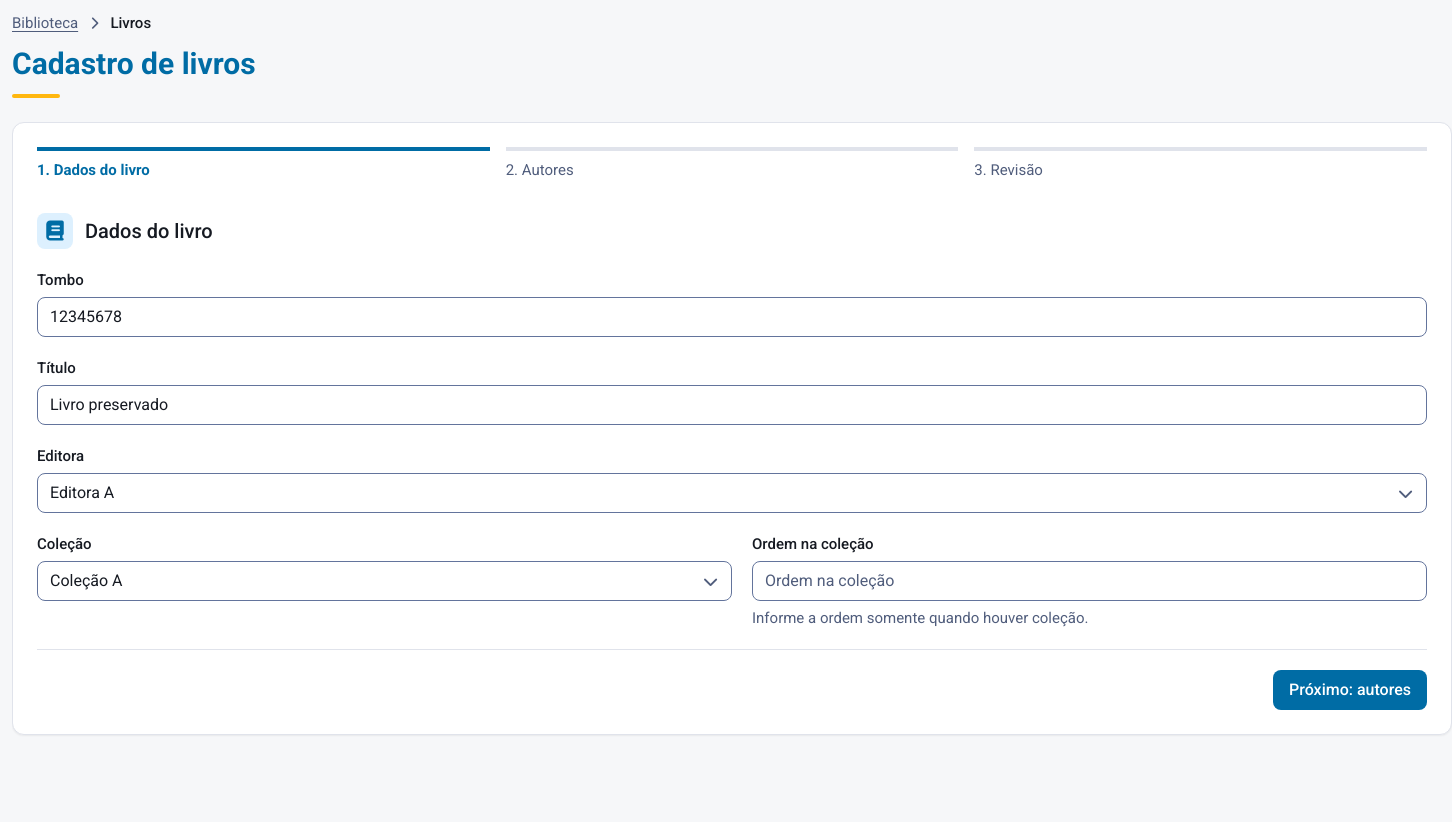
it: new book stepper › restores existing selections in the review after server validation
Click the button "Próximo: autores" at coordinates (1350, 690), box [1273,670,1427,710]
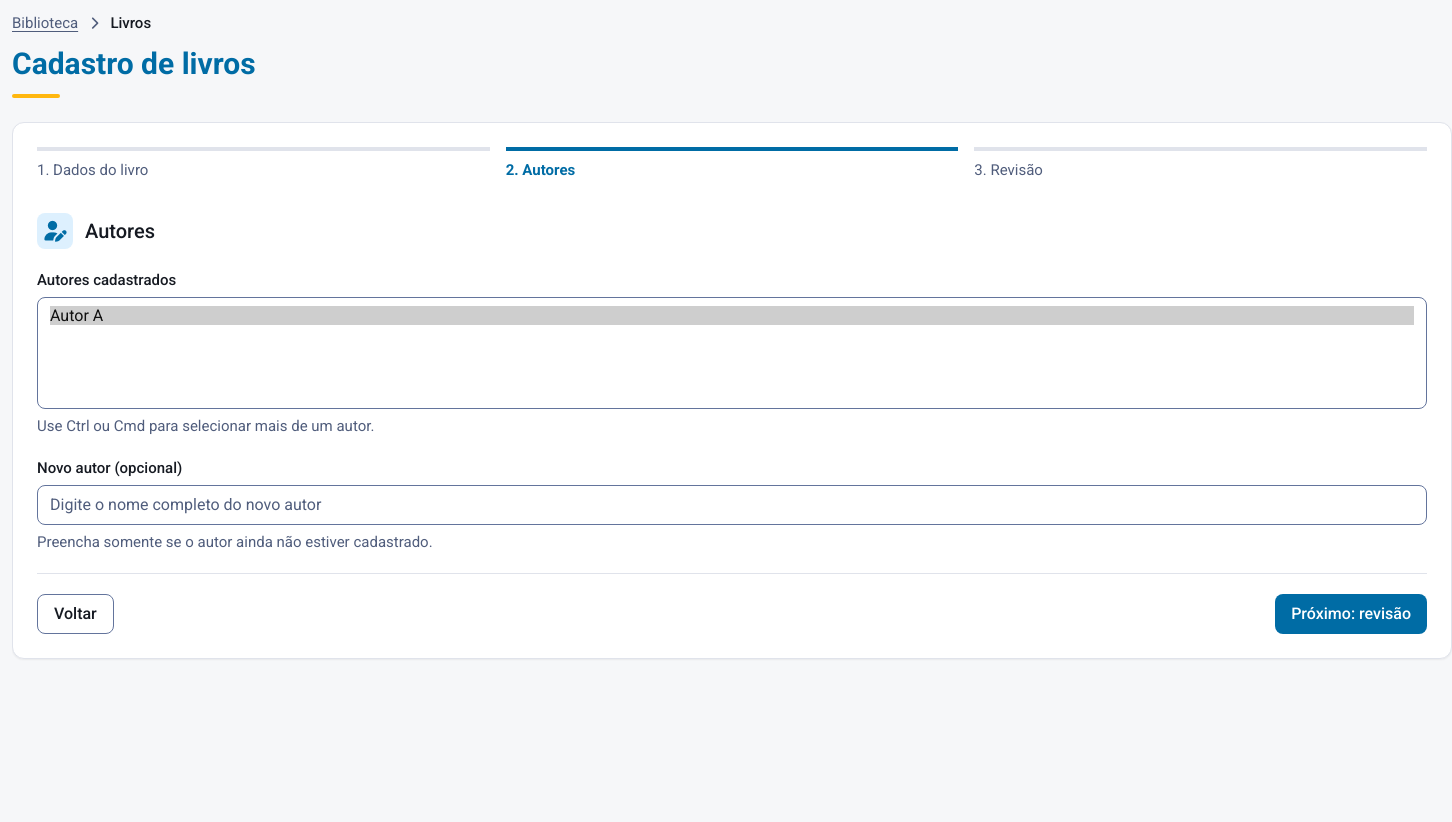
Click the button "Próximo: revisão" at coordinates (1351, 614), box [1275,594,1427,634]
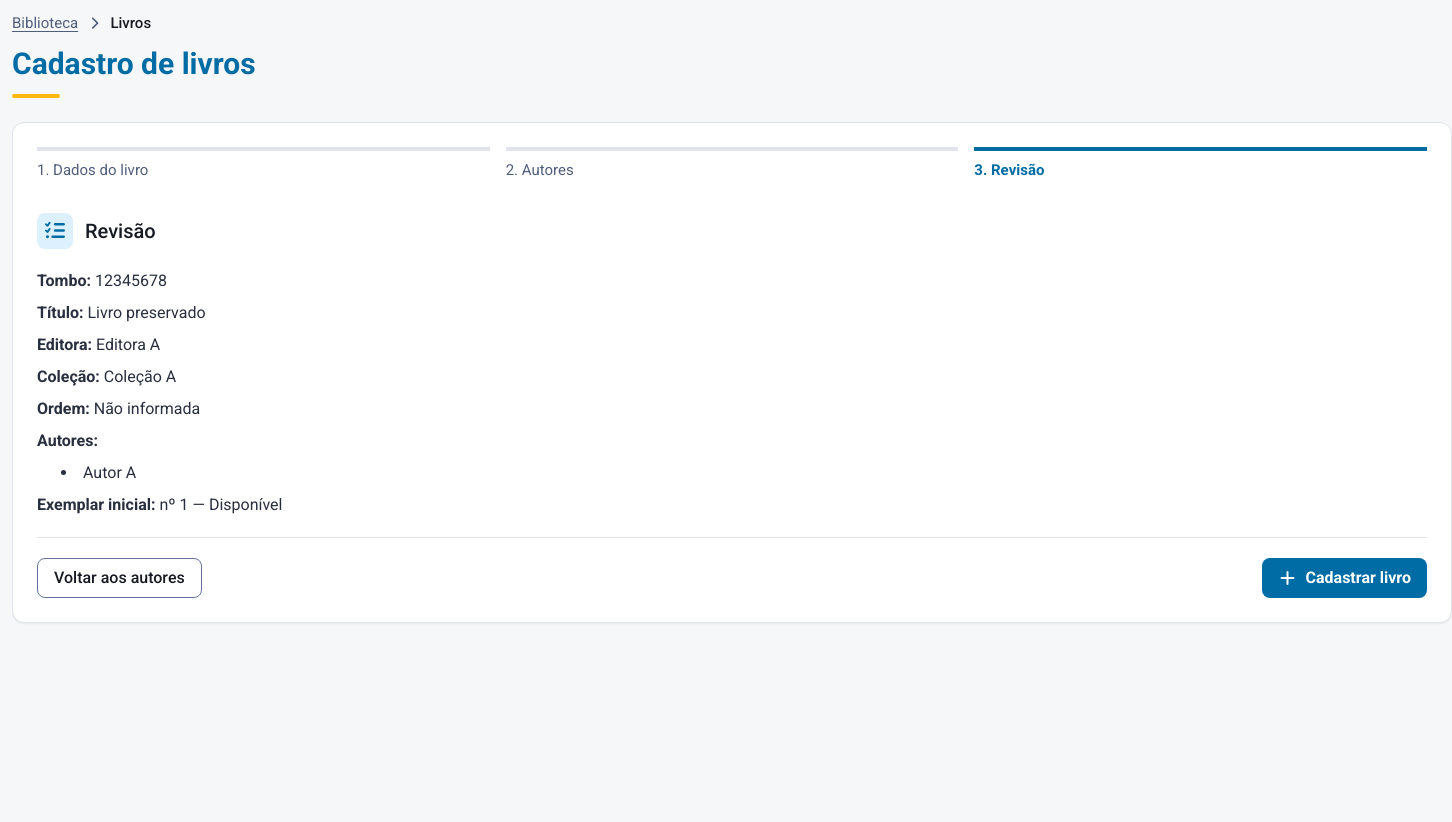
expect the element that starts with "Revisão" shows "Autor A": met, box [83,463,136,482]
expect the element that starts with "Revisão" shows "Editora A": met, box [92,335,160,354]
expect the element that starts with "Revisão" shows "Coleção A": met, box [100,367,176,386]
